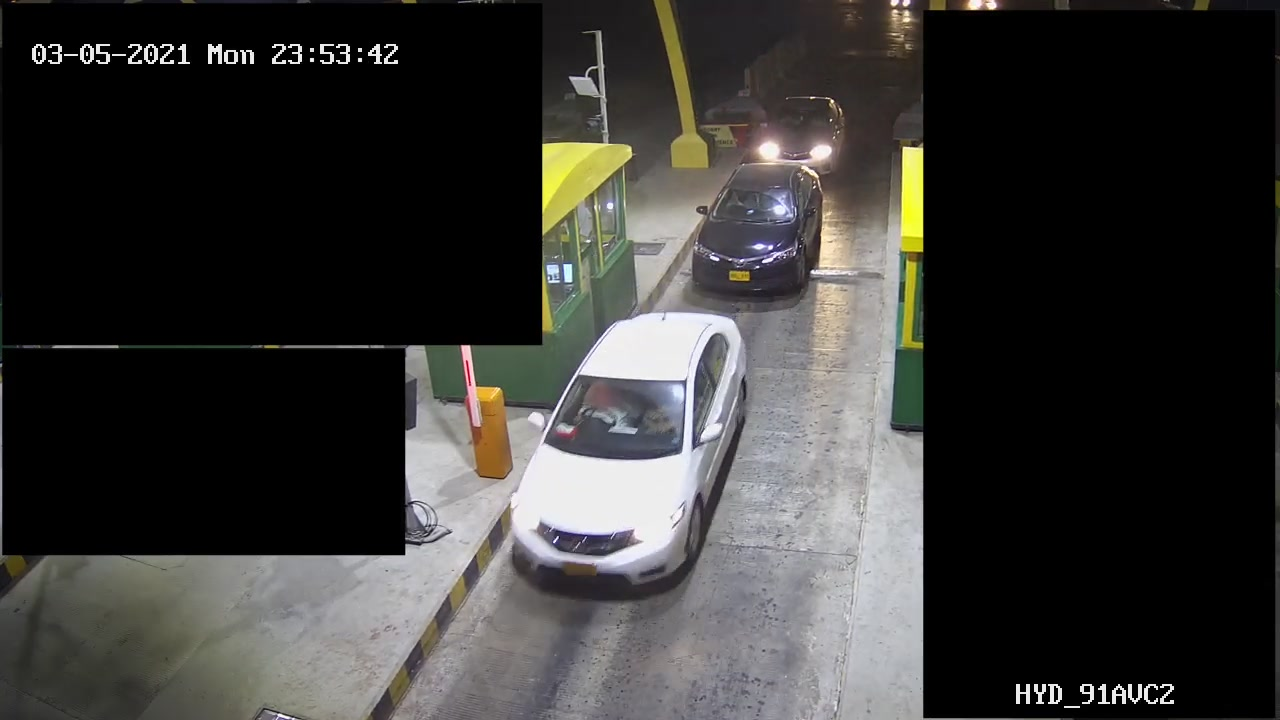F1: (496, 311, 762, 602), (683, 163, 833, 302)
